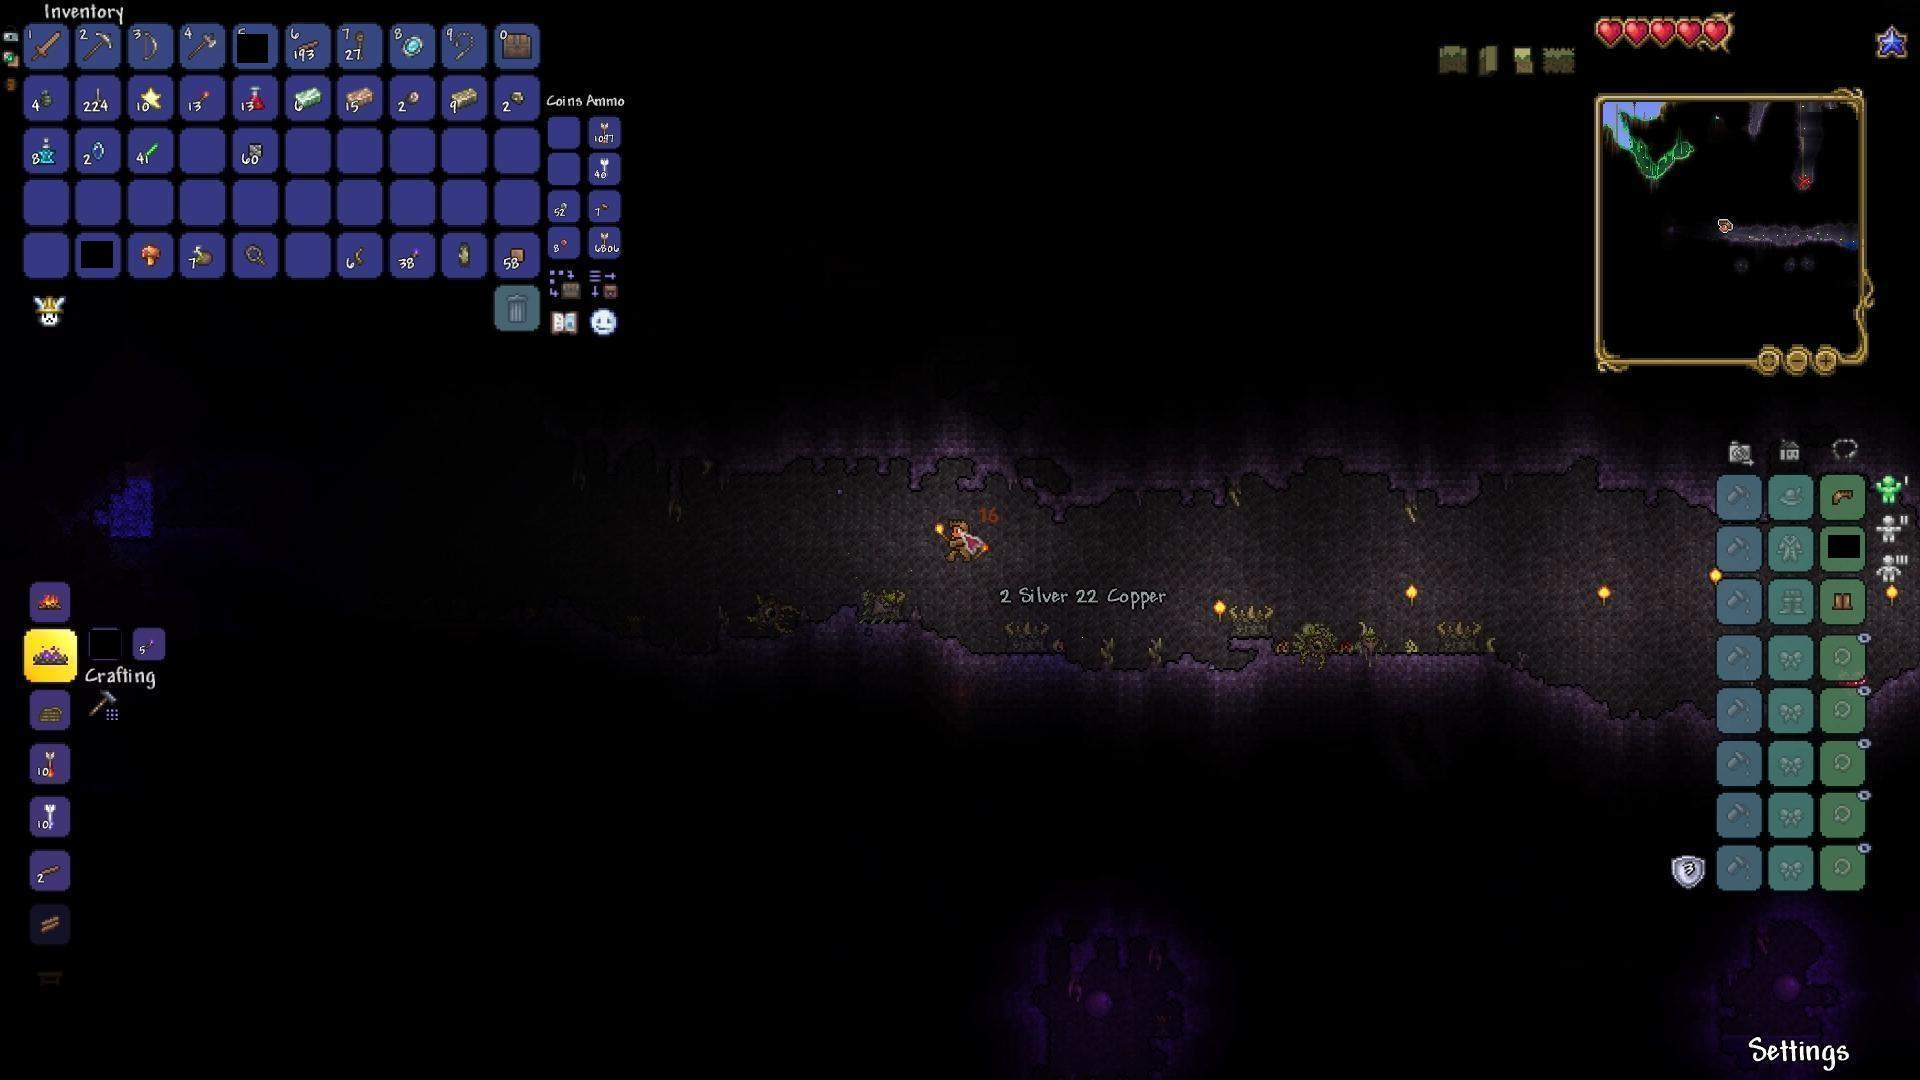helmet: (1824, 477, 1859, 509)
legs: (1830, 585, 1855, 615)
wood: (37, 913, 67, 940)
